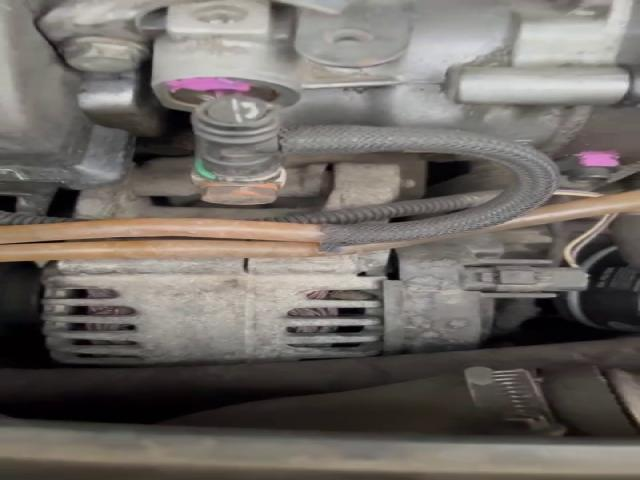alternator: (42, 251, 389, 365)
high_pressure_pump: (40, 0, 638, 183)
